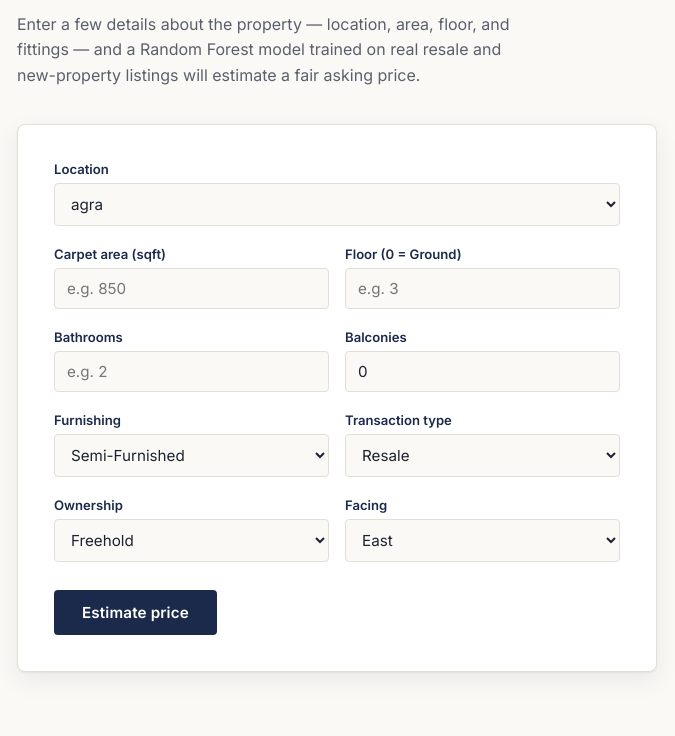
End-to-end user flow: fill form -> submit -> see prediction › shows client-side validation errors and never calls the API for invalid input
The width and height of the screenshot is (675, 736).
(page scrolled)
// Submit without filling in the required area/floor/bathroom fields
Step 1. Click the button "Estimate price" → (135, 613), box [54, 590, 217, 635]
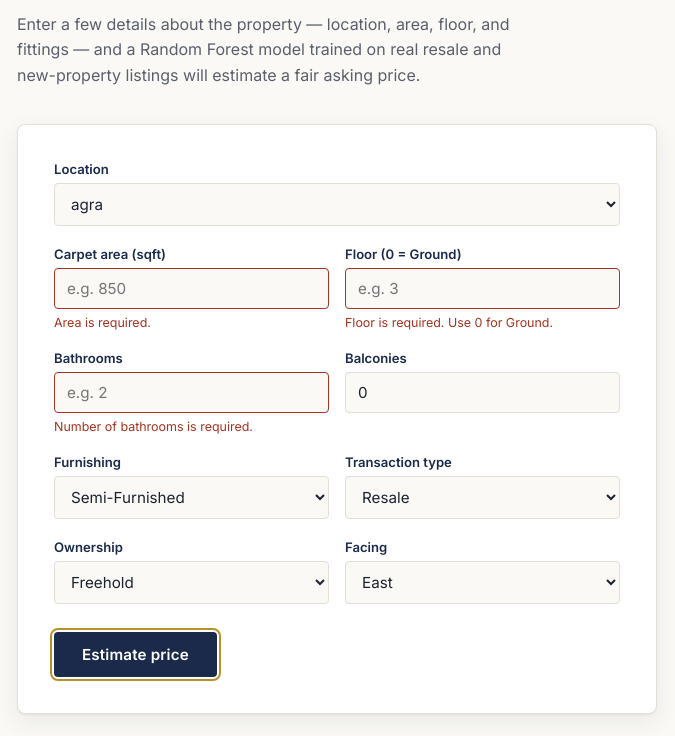
Expected: the text "Area is required." is shown, [54, 315, 151, 330]
